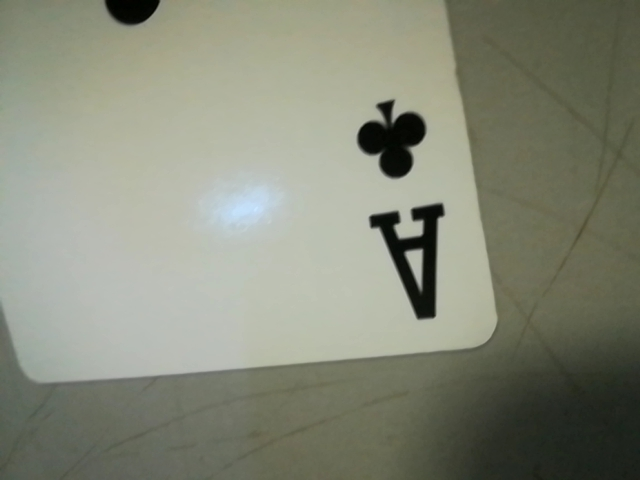mh a: (335, 86, 467, 329)
